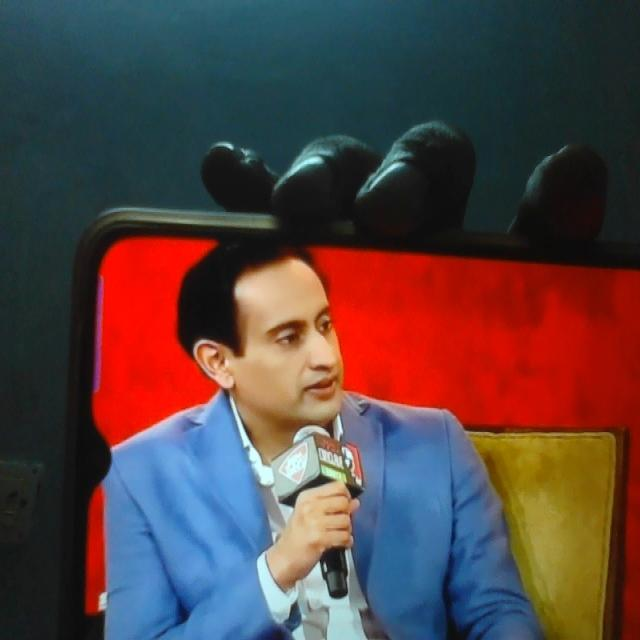fake: (224, 227, 338, 441)
